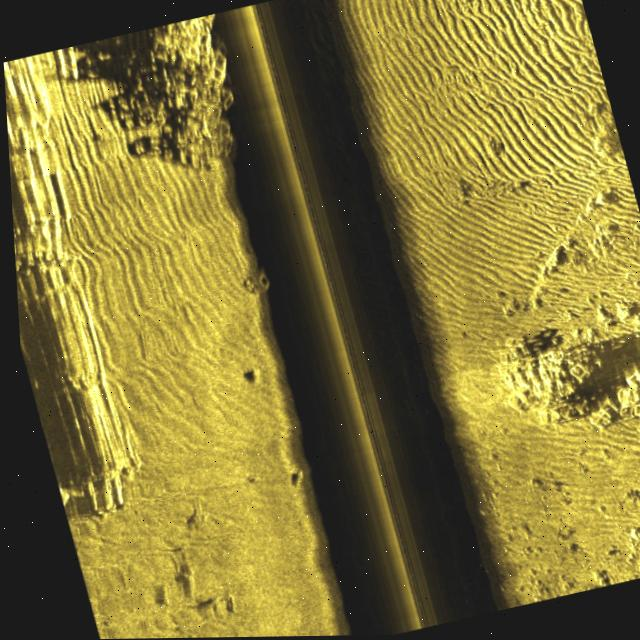artificial reef: (95, 6, 282, 180), (472, 299, 640, 490), (229, 259, 278, 314)
